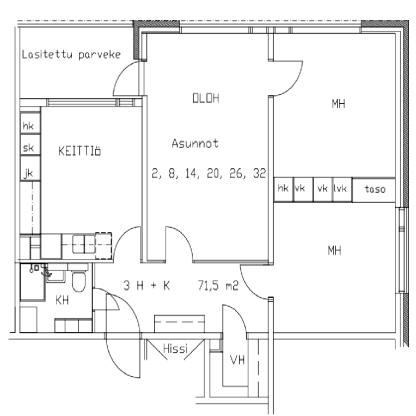door: (103, 293, 143, 378), (266, 62, 308, 98), (164, 224, 196, 270), (111, 224, 143, 268), (239, 264, 274, 303), (107, 61, 144, 94), (218, 301, 249, 337), (90, 286, 120, 315)
window: (182, 21, 360, 33), (394, 206, 410, 295), (44, 99, 134, 108)
zone: (144, 32, 267, 261), (20, 110, 140, 264), (276, 32, 395, 178), (273, 204, 395, 332), (96, 263, 266, 334), (139, 339, 269, 404), (19, 25, 139, 95), (18, 264, 93, 332), (352, 178, 392, 201), (274, 177, 294, 204), (21, 154, 39, 180), (21, 112, 41, 134), (296, 176, 314, 200), (334, 178, 350, 203), (314, 176, 330, 200), (20, 134, 40, 152)
